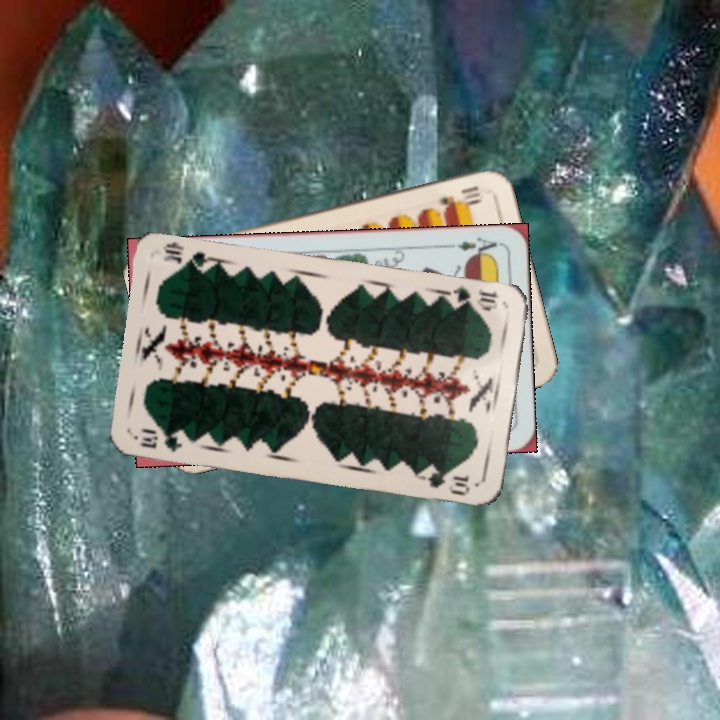E10: (434, 182, 483, 210)
EA: (443, 232, 502, 260)
G10: (446, 282, 501, 313), (136, 424, 185, 455)
